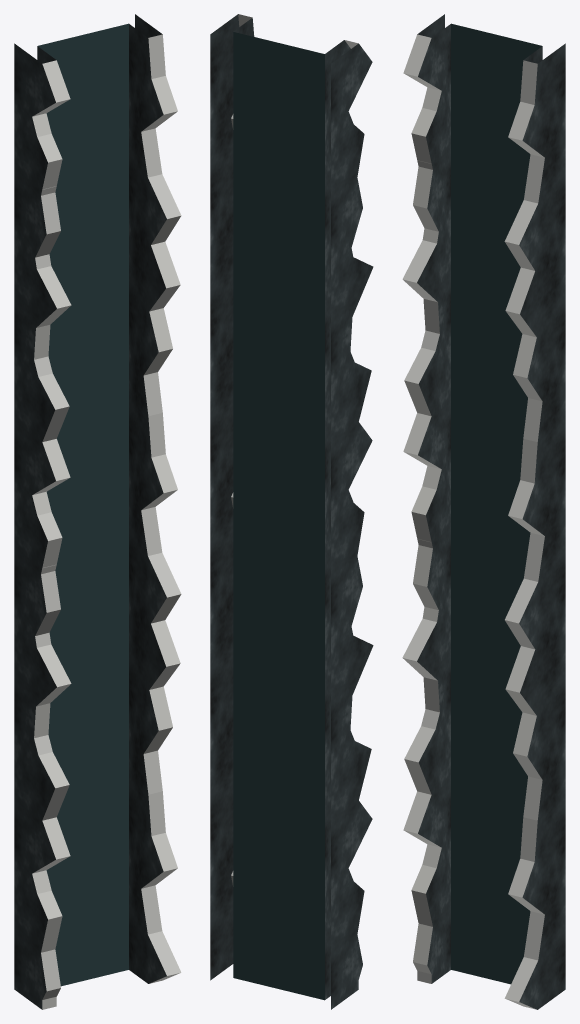
File: OT_049_broken_wall_vert_deco_var1.glb
The picture shows the model from 3 angles, left to right: view 1: azimuth 30°, elevation 25°; view 2: azimuth 150°, elevation 25°; view 3: azimuth 330°, elevation 25°; orthographic projection.
Visible parts, largest first — view 1: broken_wall, broken_wall.004, broken_wall.003; view 2: broken_wall, broken_wall.004, broken_wall.003; view 3: broken_wall, broken_wall.004, broken_wall.003.
Boxes of the visible parts, left/top/right/bottom form: broken_wall: left=14, top=14, right=181, bottom=441; broken_wall.004: left=14, top=402, right=181, bottom=820; broken_wall.003: left=14, top=780, right=181, bottom=1009; broken_wall: left=210, top=14, right=373, bottom=441; broken_wall.004: left=210, top=396, right=373, bottom=820; broken_wall.003: left=210, top=775, right=372, bottom=1009; broken_wall: left=402, top=14, right=565, bottom=442; broken_wall.004: left=402, top=402, right=565, bottom=820; broken_wall.003: left=403, top=780, right=565, bottom=1009.
Bounding box in the file's own units: 0.75 × 5.62 × 0.5008.
3 materials, 1 textured.
